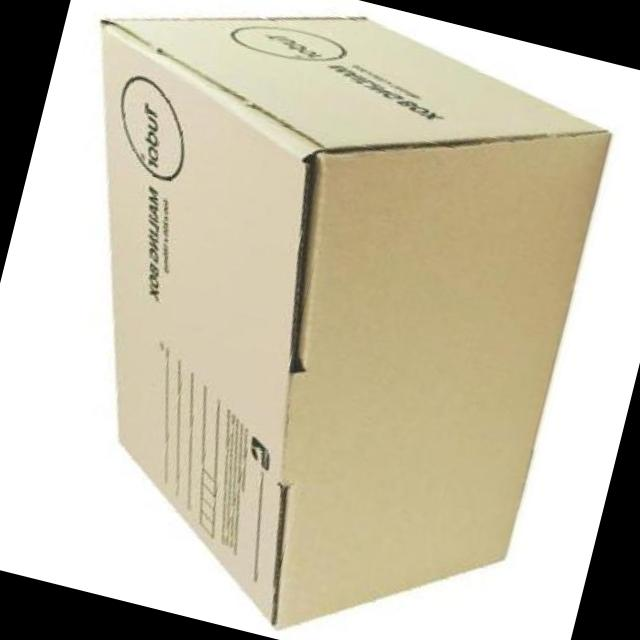box: (43, 182, 553, 640)
